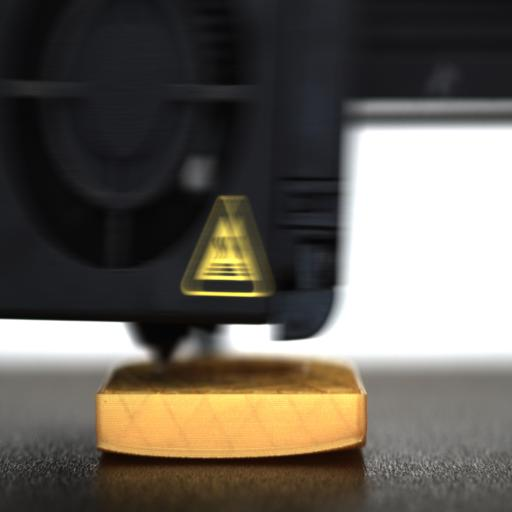warp: (297, 427, 370, 464), (92, 430, 167, 466)
